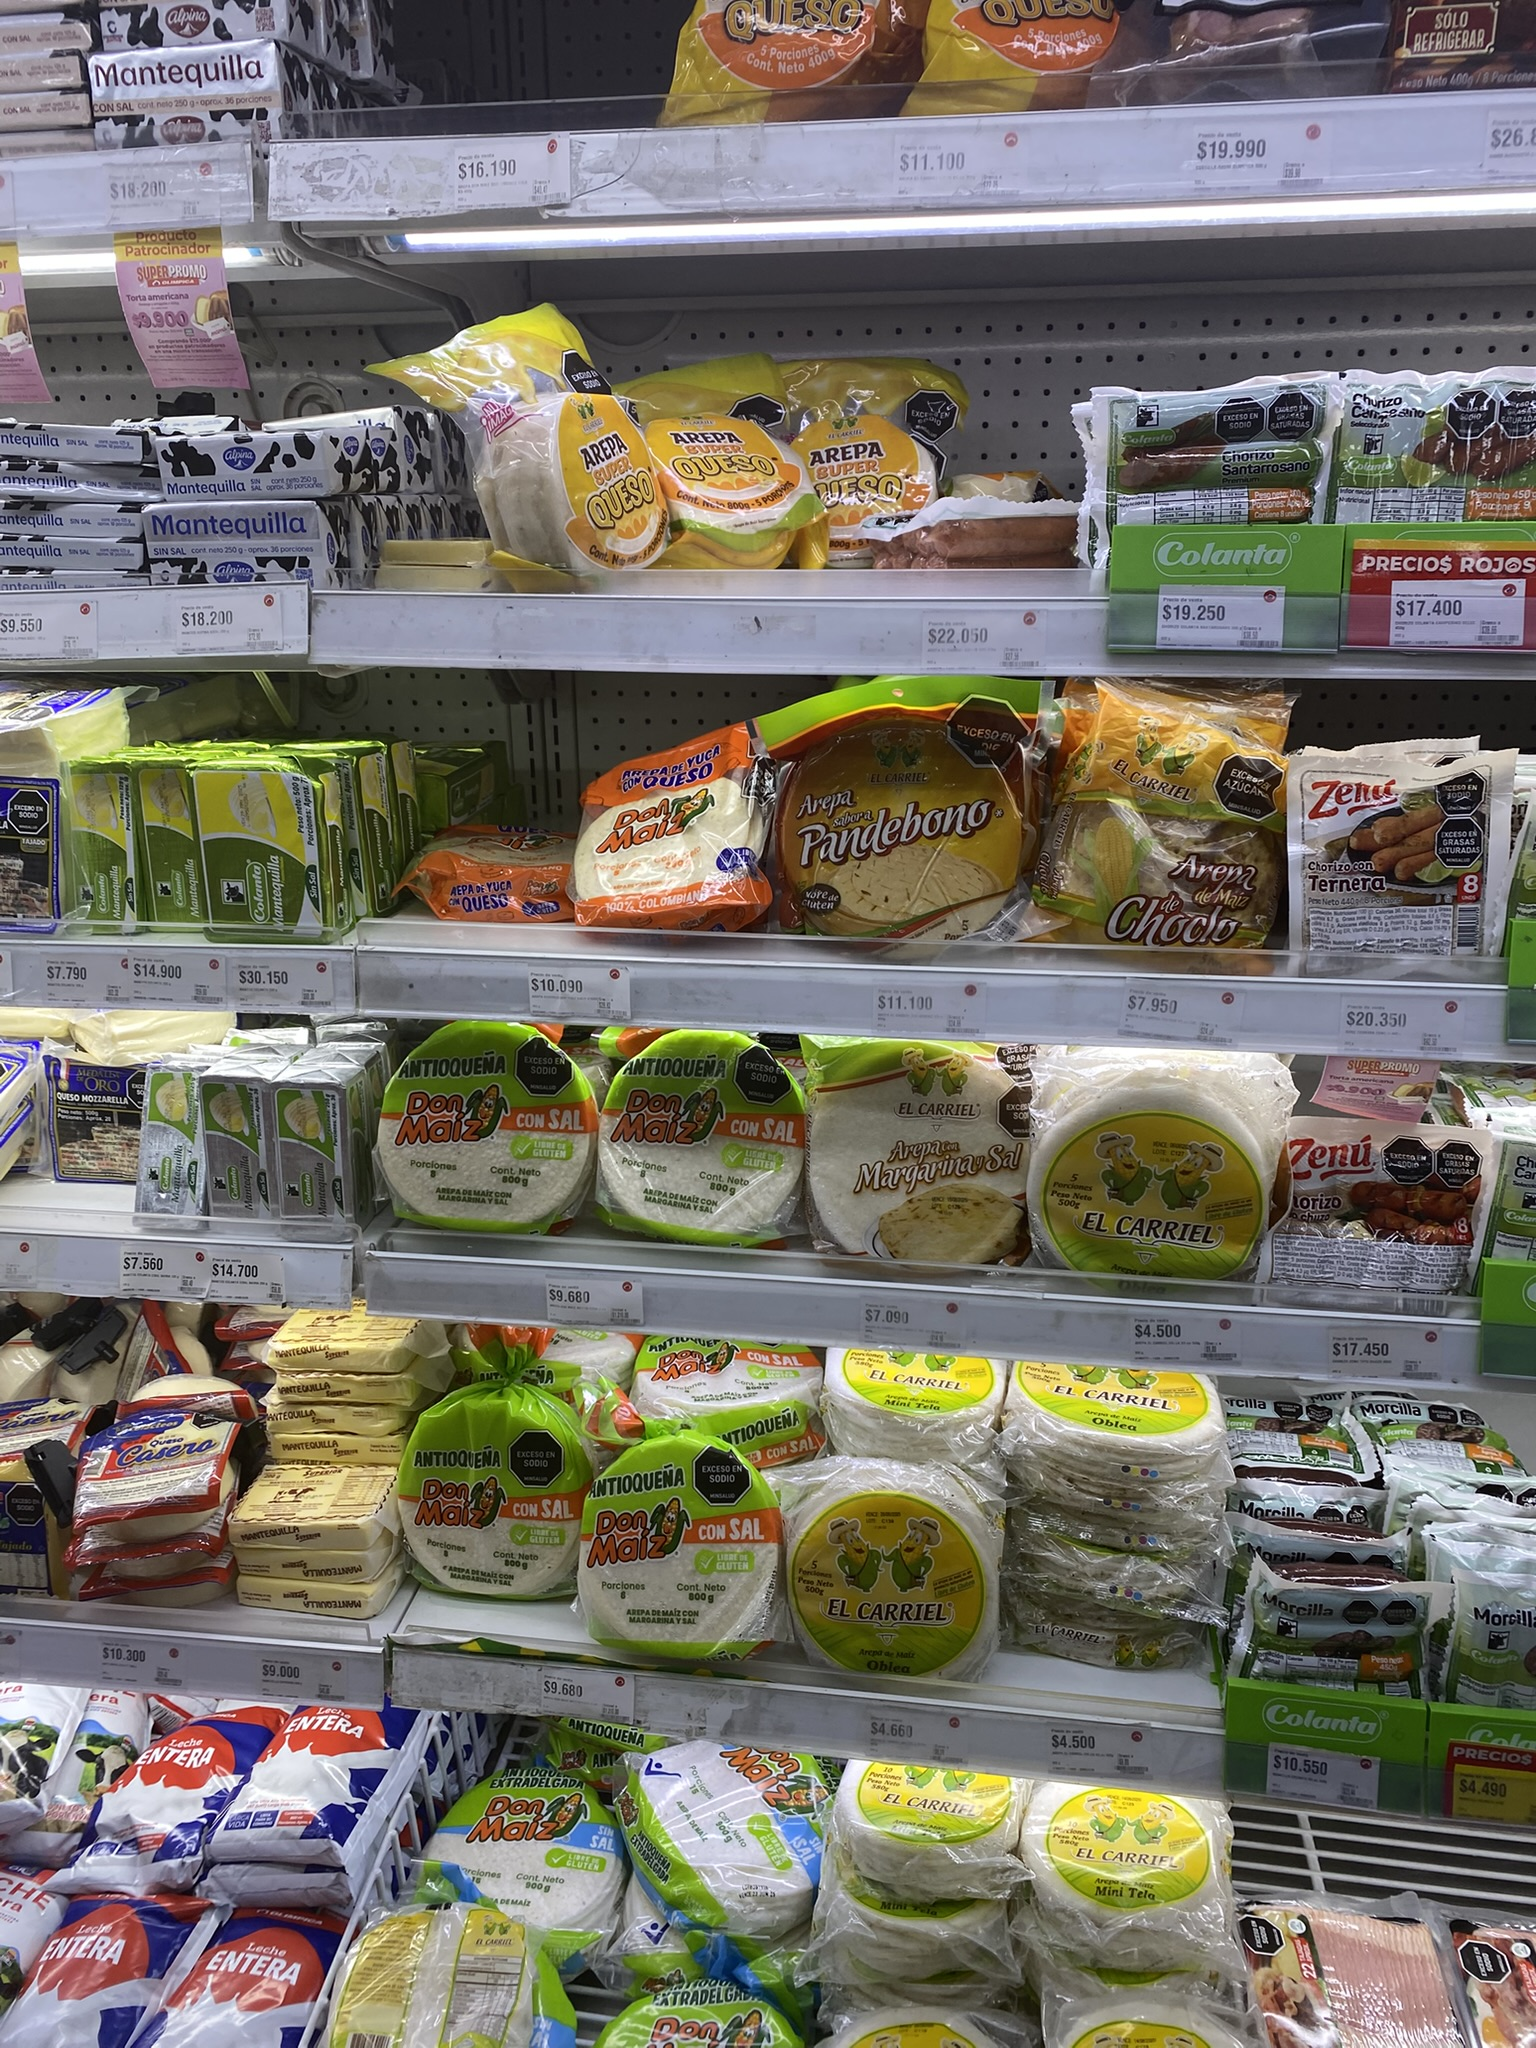Arepa: (1033, 1039, 1263, 1298), (792, 1467, 999, 1701), (1020, 1347, 1221, 1508), (1028, 1800, 1234, 1953), (824, 1740, 1020, 1888), (347, 1911, 537, 2043), (810, 1355, 1002, 1463)
